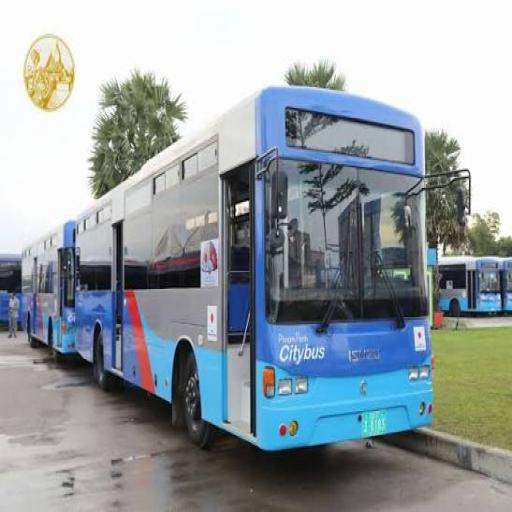Plate Number: (362, 411, 388, 436)
